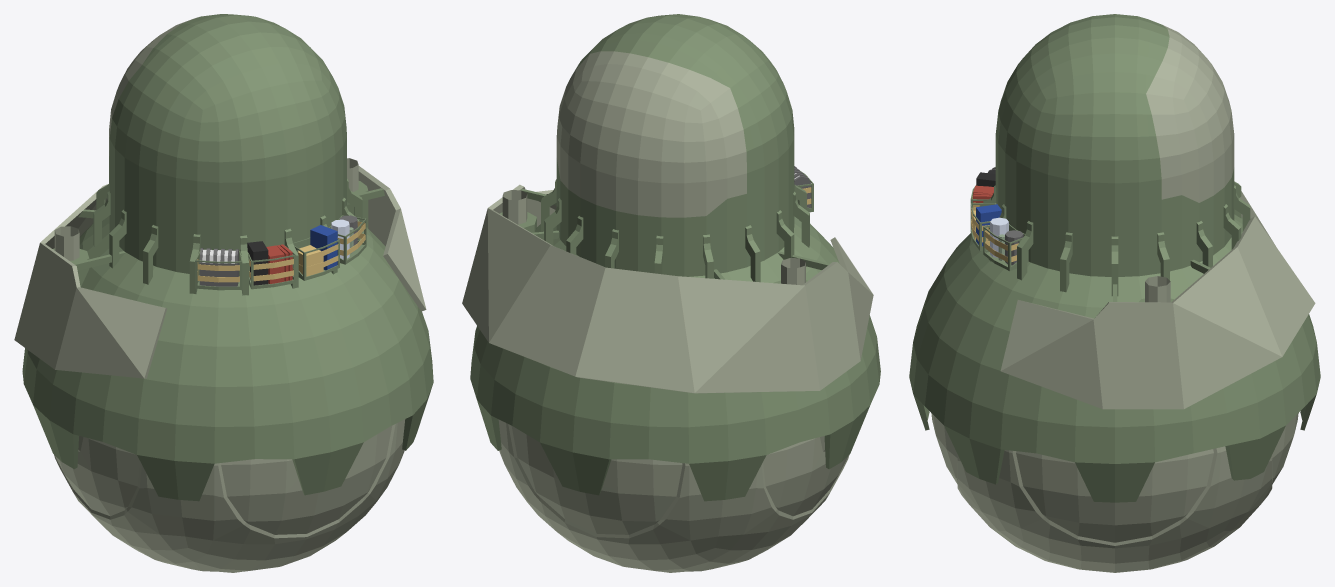
File: SmallMechExport4.fbx
3 renders of one model, left to right at view 1: azimuth 30°, elevation 25°; view 2: azimuth 150°, elevation 25°; view 3: azimuth 270°, elevation 25°, orthographic.
Parts seen in each view (by area): view 1: LightMechV2_EXPORT; view 2: LightMechV2_EXPORT; view 3: LightMechV2_EXPORT.
Boxes of the visible parts, left/top/right/bottom form: LightMechV2_EXPORT: left=14, top=14, right=433, bottom=572; LightMechV2_EXPORT: left=462, top=14, right=880, bottom=572; LightMechV2_EXPORT: left=909, top=14, right=1320, bottom=572.
Bounding box in the file's own units: 580 × 824 × 577.
